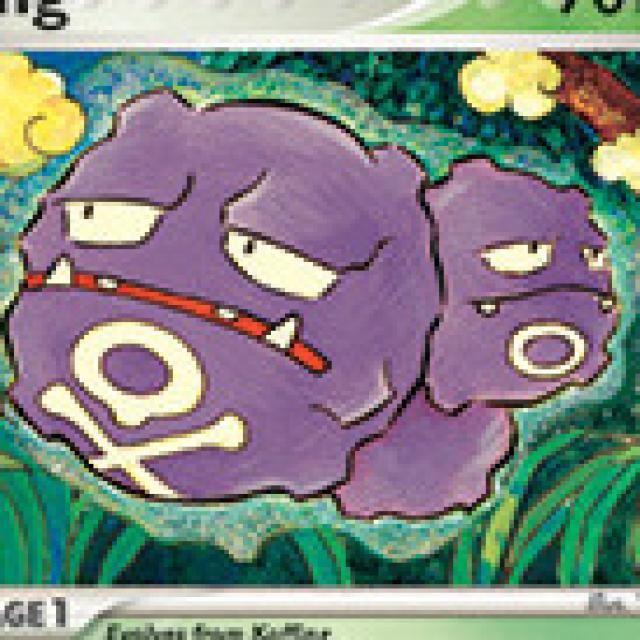Weezing: (0, 73, 640, 563)
